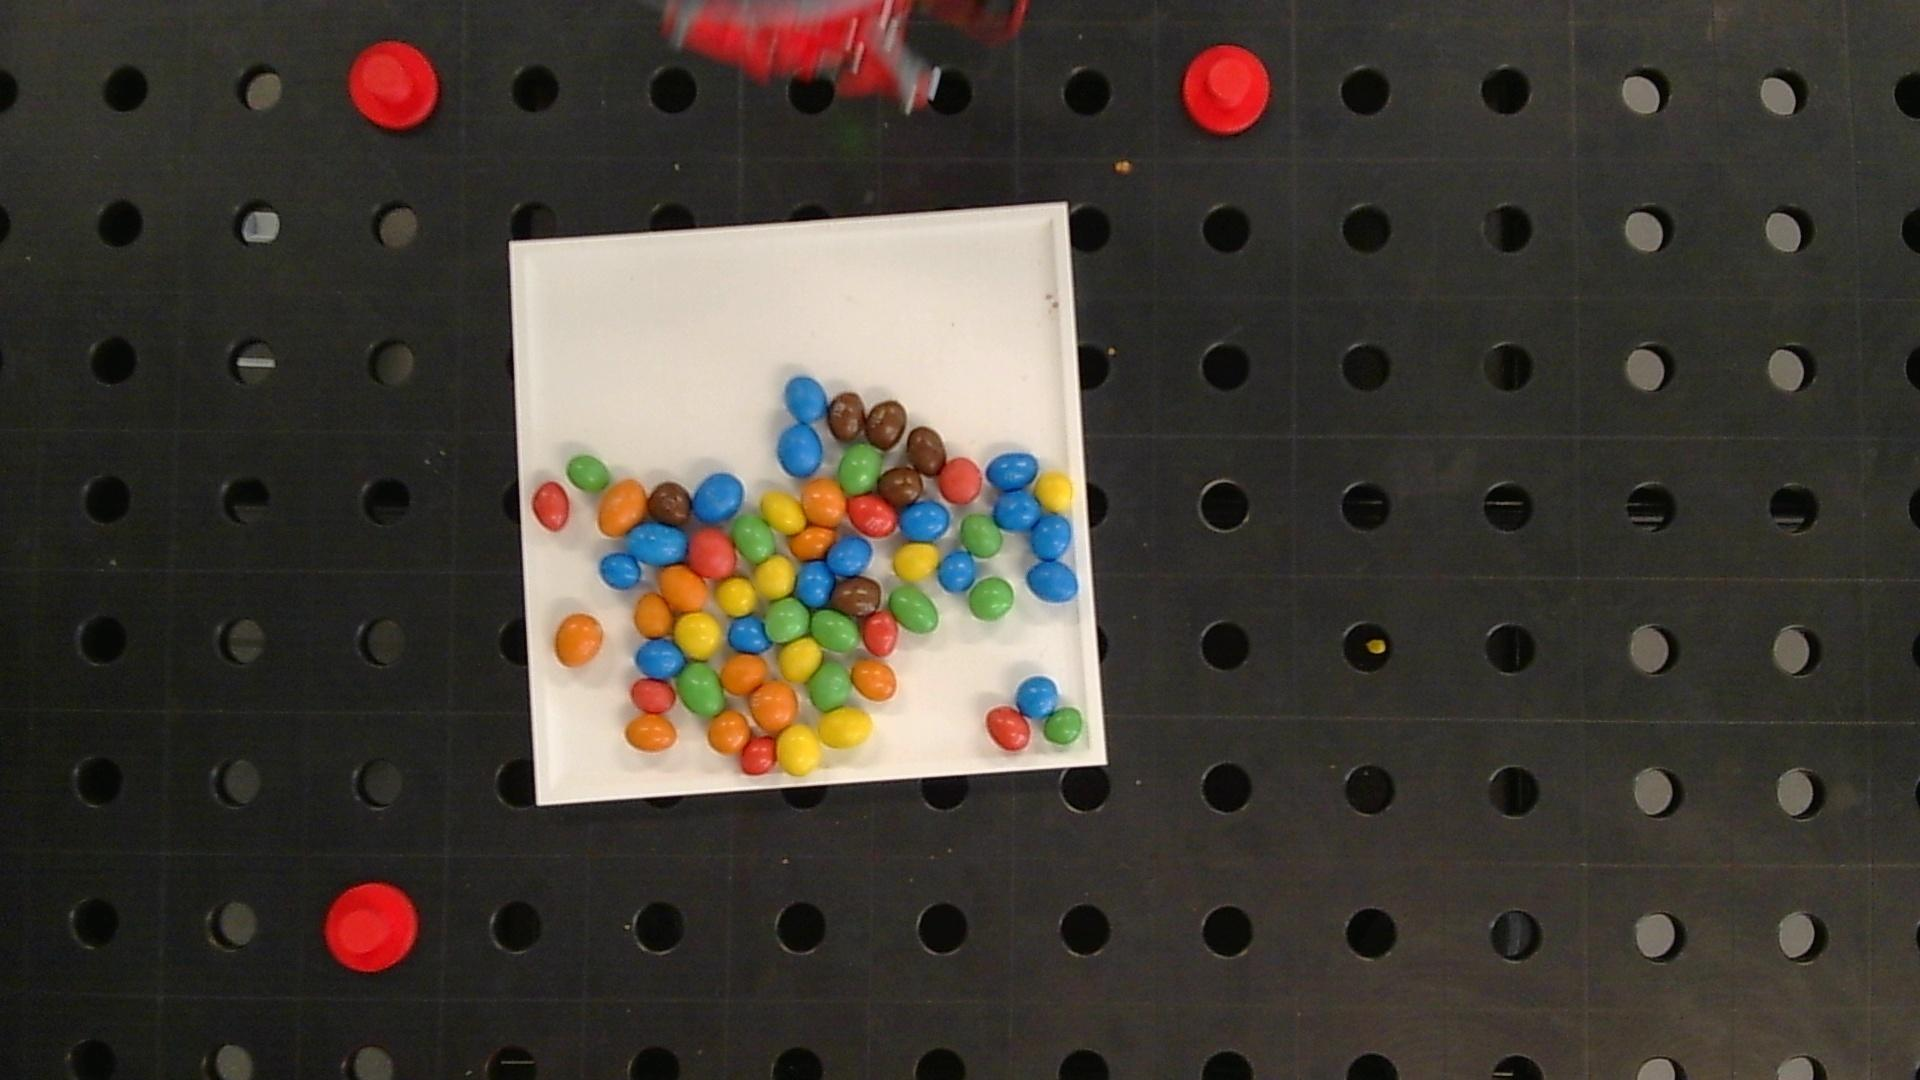blue: (692, 472, 744, 522), (628, 522, 688, 564), (778, 425, 823, 476), (1027, 560, 1079, 603), (1030, 513, 1072, 560), (901, 501, 949, 542), (785, 377, 827, 422), (988, 452, 1038, 489), (993, 491, 1039, 530), (828, 535, 872, 576), (637, 638, 683, 676), (1017, 675, 1059, 716), (796, 562, 833, 605), (939, 551, 976, 592), (600, 553, 641, 589), (728, 616, 769, 651)
brown: (865, 400, 906, 450), (649, 481, 692, 526), (907, 426, 945, 476), (827, 392, 865, 440), (835, 578, 881, 616), (877, 467, 923, 505)
green: (678, 662, 724, 716), (889, 587, 939, 633), (808, 661, 852, 709), (839, 444, 882, 492), (732, 514, 775, 562), (969, 578, 1015, 621), (811, 611, 858, 651), (766, 599, 808, 642), (961, 514, 1004, 558), (566, 454, 612, 491), (1043, 708, 1087, 746)
orange: (599, 480, 647, 535), (555, 613, 603, 666), (750, 680, 796, 732), (659, 566, 707, 611), (803, 479, 847, 525), (625, 716, 678, 752), (708, 711, 750, 754), (852, 661, 897, 700), (723, 655, 765, 694), (636, 593, 671, 636), (790, 527, 835, 559)
red: (688, 530, 736, 578), (938, 458, 982, 502), (985, 707, 1031, 750), (847, 496, 897, 535), (531, 481, 570, 530), (862, 612, 898, 657), (632, 679, 675, 712), (741, 738, 777, 774)
yellow: (819, 707, 873, 748), (777, 725, 820, 775), (675, 613, 720, 658), (779, 638, 822, 682), (893, 543, 940, 582), (761, 492, 804, 533), (754, 556, 795, 597), (1035, 472, 1073, 512), (717, 578, 758, 615)
